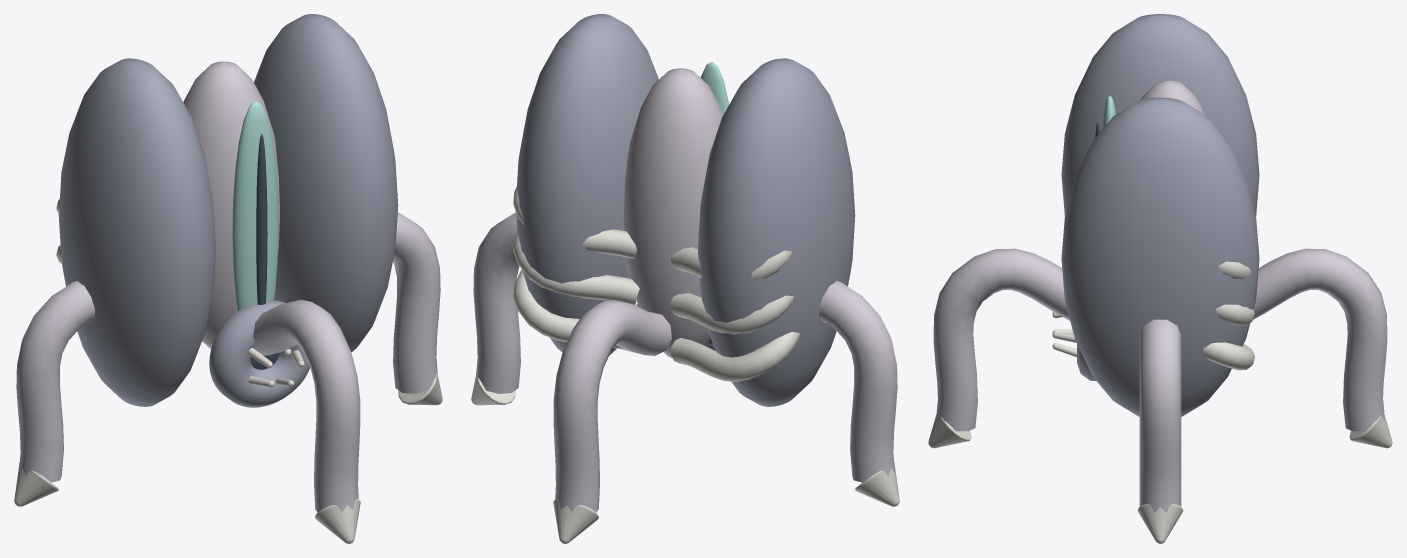
The model's file is bio_window_sac_01_near.glb.
The picture shows the model from 3 angles, left to right: view 1: azimuth 30°, elevation 25°; view 2: azimuth 150°, elevation 25°; view 3: azimuth 270°, elevation 25°; orthographic projection. The views are drawn at different scales.
Parts seen in each view (by area): view 1: Separated curved shell, Crooked support.003, Internal receptor sac, Crooked support.002, Crooked support, Single vertical photoreceptor, Raised oral lip, Long internal pupil, Contact spur.003, Contact spur.002, Inward tooth, Contact spur; view 2: Separated curved shell, Internal receptor sac, Shell window buttress, Crooked support.001, Crooked support.002, Crooked support, Contact spur.001, Contact spur.002, Single vertical photoreceptor, Contact spur; view 3: Separated curved shell, Crooked support.003, Crooked support.001, Crooked support, Shell window buttress, Contact spur, Internal receptor sac, Contact spur.001, Contact spur.003.
Part boxes in pixels (x1=…): Separated curved shell: x1=58, y1=14, x2=398, y2=406; Crooked support.003: x1=253, y1=299, x2=360, y2=512; Internal receptor sac: x1=183, y1=61, x2=279, y2=349; Crooked support.002: x1=16, y1=281, x2=94, y2=482; Crooked support: x1=393, y1=212, x2=440, y2=393; Single vertical photoreceptor: x1=232, y1=101, x2=278, y2=311; Raised oral lip: x1=209, y1=300, x2=310, y2=407; Long internal pupil: x1=256, y1=133, x2=267, y2=304; Contact spur.003: x1=315, y1=499, x2=360, y2=543; Contact spur.002: x1=14, y1=462, x2=58, y2=506; Inward tooth: x1=248, y1=348, x2=304, y2=387; Contact spur: x1=398, y1=372, x2=442, y2=405; Separated curved shell: x1=516, y1=14, x2=855, y2=406; Internal receptor sac: x1=623, y1=68, x2=722, y2=357; Shell window buttress: x1=513, y1=186, x2=799, y2=381; Crooked support.001: x1=553, y1=299, x2=671, y2=512; Crooked support.002: x1=819, y1=281, x2=897, y2=482; Crooked support: x1=473, y1=212, x2=520, y2=393; Contact spur.001: x1=553, y1=499, x2=598, y2=543; Contact spur.002: x1=855, y1=462, x2=899, y2=506; Single vertical photoreceptor: x1=700, y1=61, x2=728, y2=114; Contact spur: x1=471, y1=372, x2=515, y2=405; Separated curved shell: x1=1061, y1=14, x2=1259, y2=416; Crooked support.003: x1=933, y1=248, x2=1069, y2=431; Crooked support.001: x1=1253, y1=248, x2=1387, y2=431; Crooked support: x1=1139, y1=319, x2=1181, y2=512; Shell window buttress: x1=1202, y1=261, x2=1254, y2=370; Contact spur: x1=1137, y1=504, x2=1183, y2=543; Internal receptor sac: x1=1141, y1=80, x2=1205, y2=115; Contact spur.001: x1=1349, y1=414, x2=1392, y2=448; Contact spur.003: x1=928, y1=414, x2=971, y2=448.
Size of the model in its own units: 2.11 by 1.96 by 2.11.
